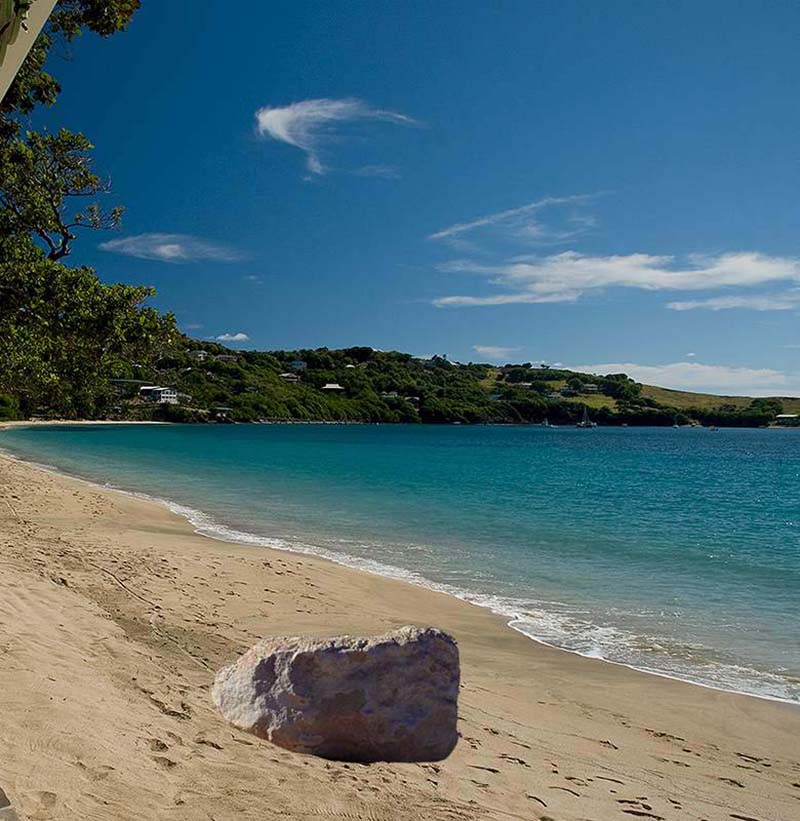Rocks: (199, 616, 471, 779)
